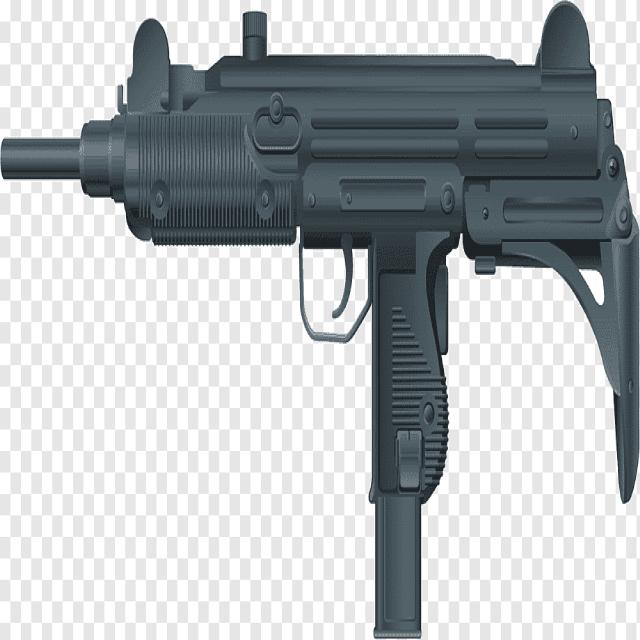firearm: (2, 15, 640, 633)
